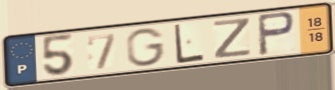5: (40, 32, 76, 80)
7: (85, 32, 118, 71)
G: (124, 27, 167, 68)
L: (172, 22, 206, 66)
P: (255, 10, 298, 57)
Z: (212, 16, 254, 61)
